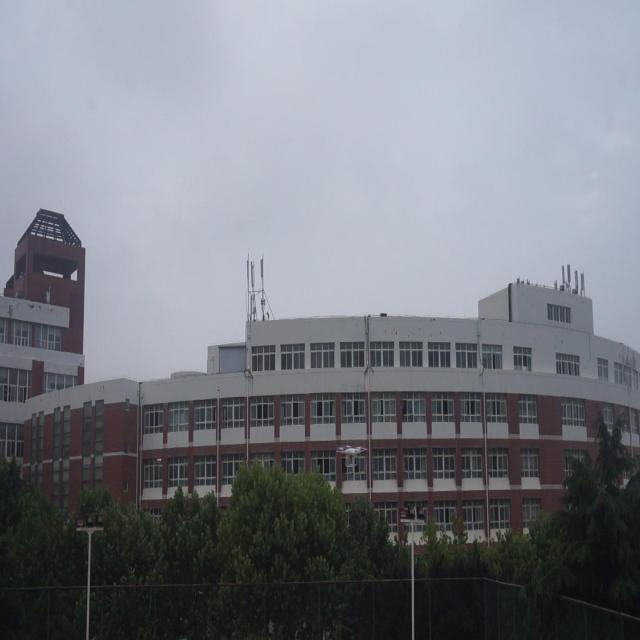drone: (334, 441, 368, 468)
